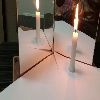fire: (74, 15, 78, 35)
